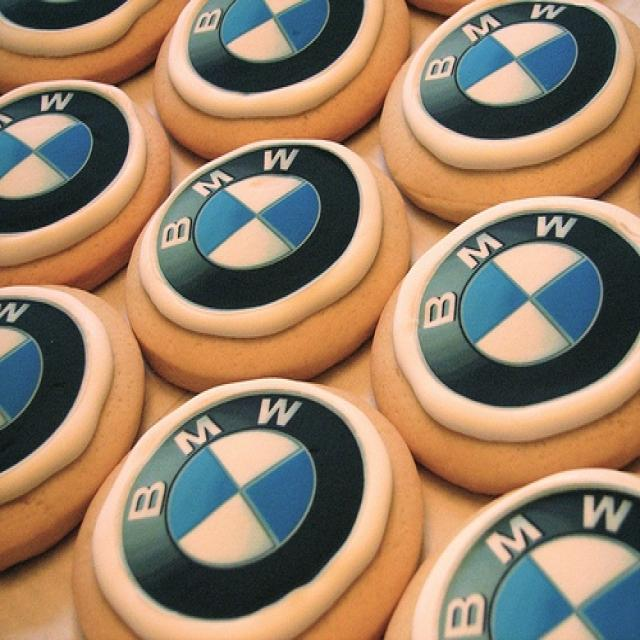bmw: (115, 385, 372, 629), (413, 202, 640, 414), (152, 136, 368, 320), (432, 476, 640, 640), (414, 3, 625, 148)
